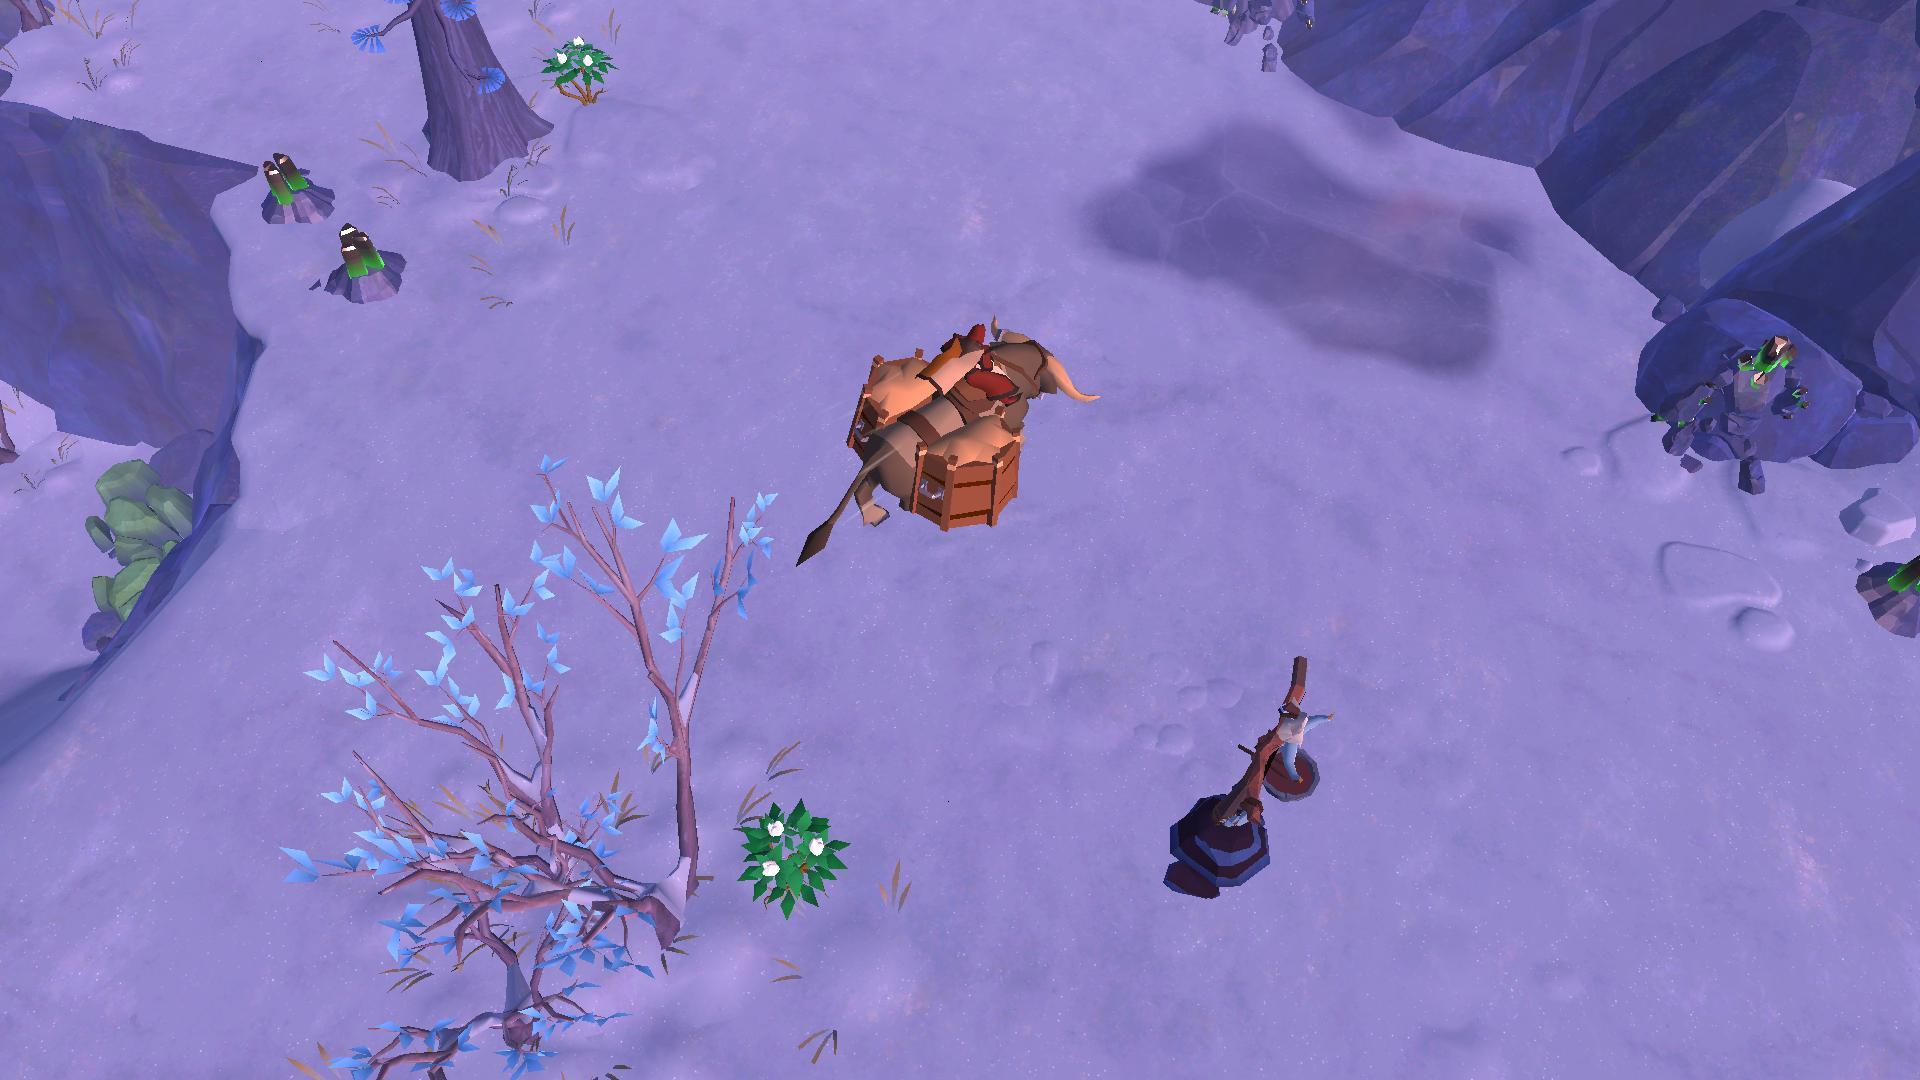fiber_t3: (737, 795, 845, 913), (546, 34, 613, 95)
ore_t3: (328, 218, 378, 284), (255, 148, 301, 207)
rock_t3: (79, 447, 208, 553), (79, 550, 186, 633)
